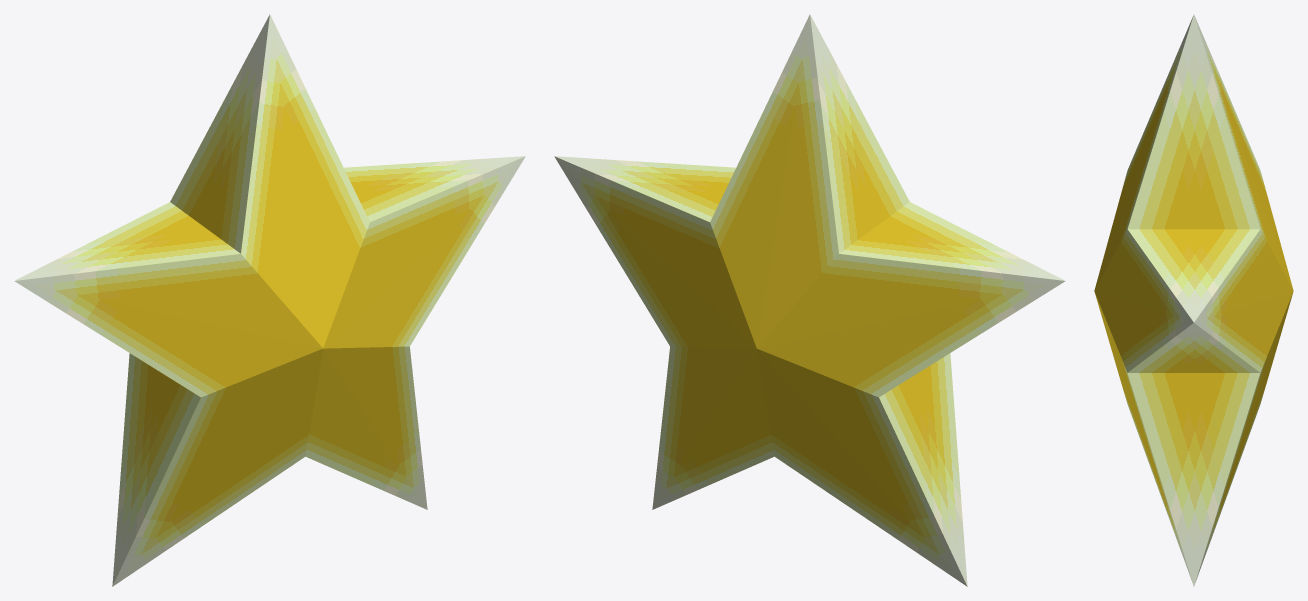
Rendered from SFXobjmark.obj.
The picture shows the model from 3 angles, left to right: view 1: azimuth 30°, elevation 25°; view 2: azimuth 150°, elevation 25°; view 3: azimuth 270°, elevation 25°; orthographic projection. The views are drawn at different scales.
Parts seen in each view (by area): view 1: Node 0; view 2: Node 0; view 3: Node 0.
Boxes of the visible parts, left/top/right/bottom form: Node 0: left=14, top=14, right=525, bottom=586; Node 0: left=554, top=14, right=1065, bottom=586; Node 0: left=1094, top=14, right=1293, bottom=586.
Bounding box in the file's own units: 5 × 4.99 × 1.8.
